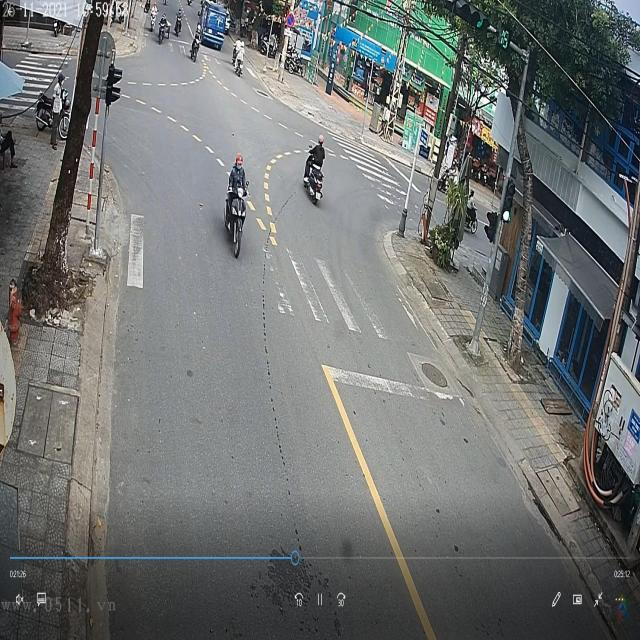motorcycle: (223, 188, 249, 258), (303, 160, 324, 204), (190, 37, 200, 64), (149, 9, 157, 33)
